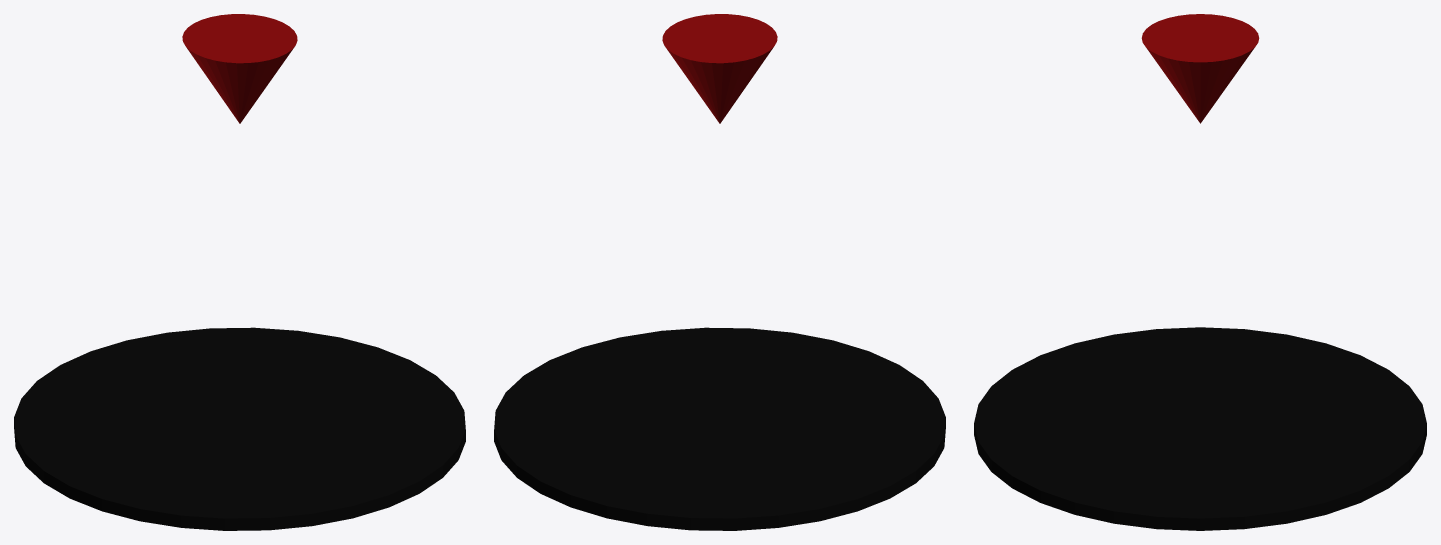
Rendered from EnemySpawn.fbx.
3 renders of one model, left to right at view 1: azimuth 30°, elevation 25°; view 2: azimuth 150°, elevation 25°; view 3: azimuth 270°, elevation 25°, orthographic.
Visible parts, largest first — view 1: 円柱; view 2: 円柱; view 3: 円柱.
Boxes of the visible parts, bbox=[...] form: 円柱: bbox=[14, 14, 465, 530]; 円柱: bbox=[494, 14, 945, 530]; 円柱: bbox=[974, 14, 1426, 530].
Size of the model in its own units: 5.51 by 5.33 by 5.51.
